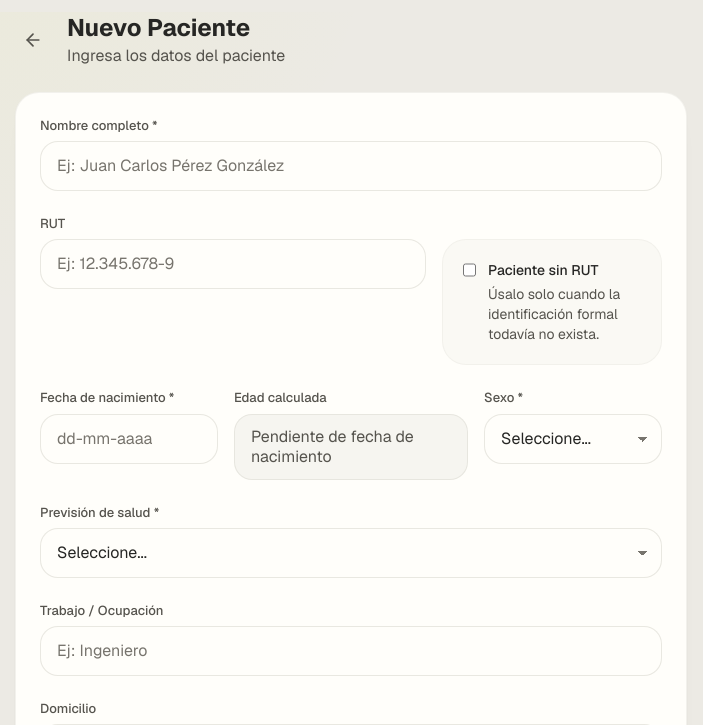
Test: NuevoPacientePage › shows a warning when a possible duplicate is detected before saving
This screenshot has width=703, height=725.
Type "Paciente Demo" into the field labelled "Nombre completo *". click: coordinates (351, 166)
box: [40,141,662,191]
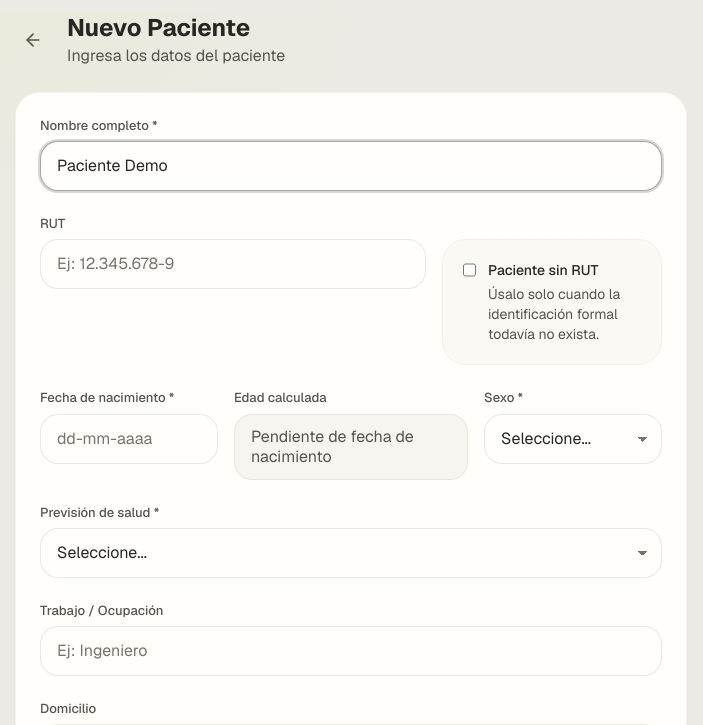
Type "2020-05-15" into the field labelled "Fecha de nacimiento *". click: coordinates (129, 439)
box: [40,414,218,464]
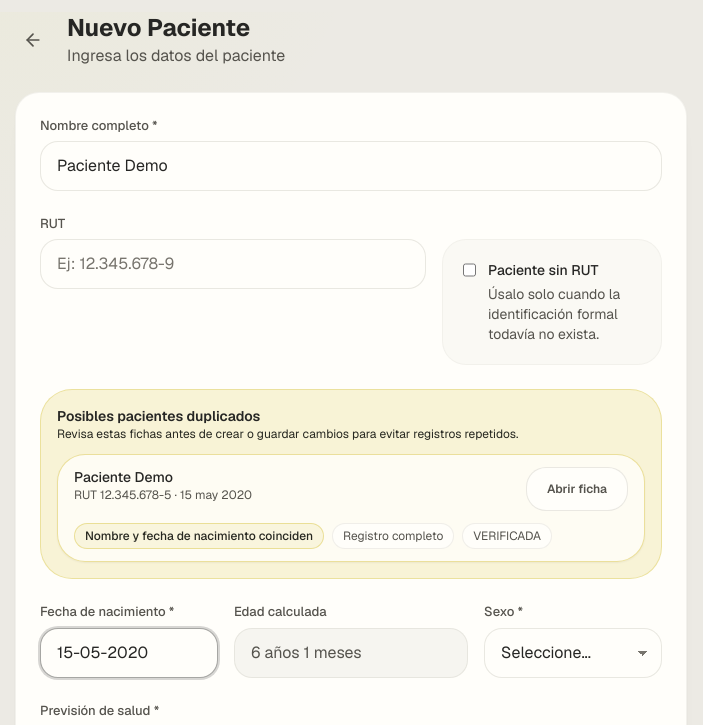
Now the text "Posibles pacientes duplicados" is shown, box [57,407,260,425]
